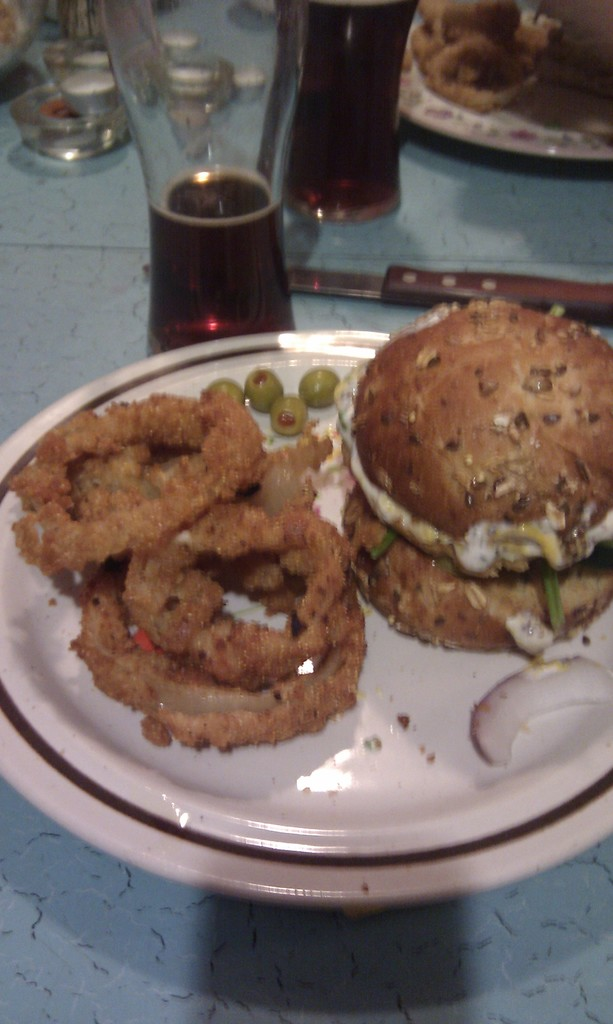Hamburger: (337, 306, 612, 656)
